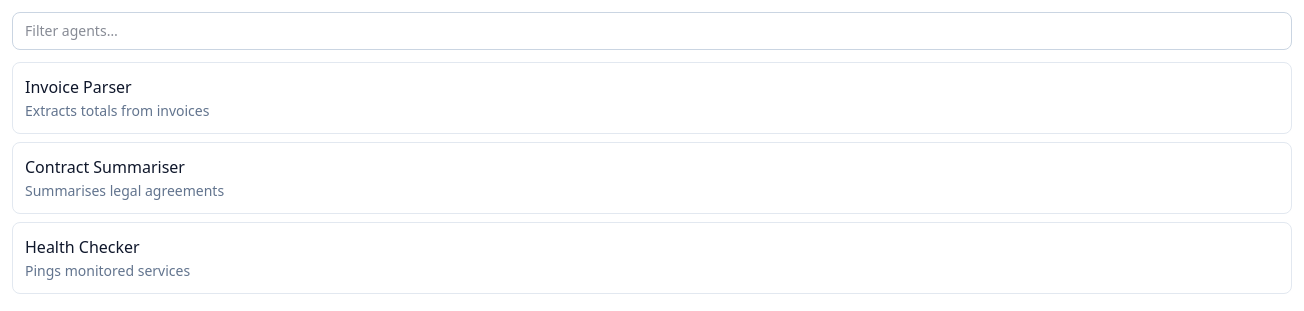
Test case: AgentList filtering › narrows progressively, character by character
Type "c" into the search field labelled "Filter agents…" at (652, 31), box left=12, top=12, right=1292, bottom=50
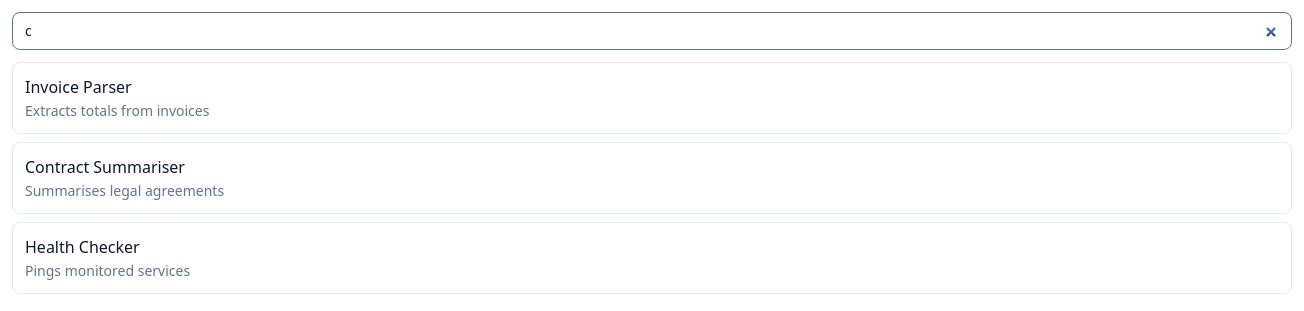
Expected: the number of links with test id "agent-card" is 3, left=12, top=62, right=1292, bottom=134; left=12, top=142, right=1292, bottom=214; left=12, top=222, right=1292, bottom=294
Type "on" into the search field named "Filter agents" at (652, 31), box left=12, top=12, right=1292, bottom=50
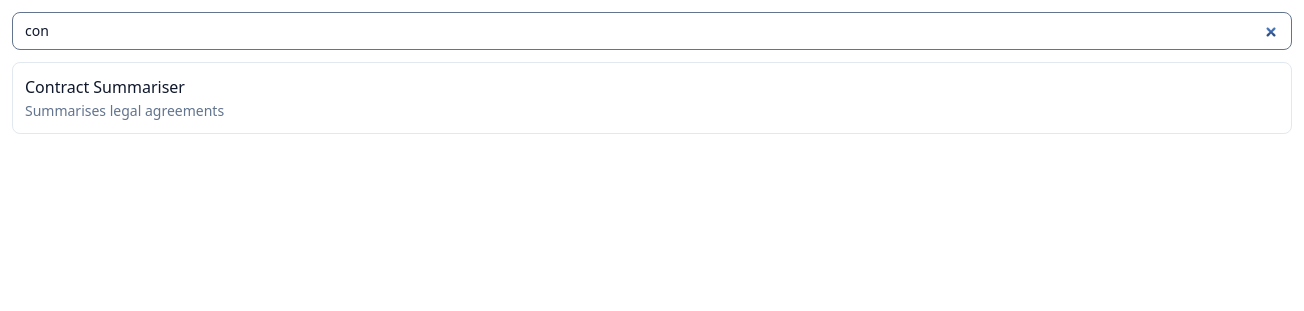
Expected: the text "Contract Summariser" is shown, left=25, top=76, right=185, bottom=98
Result: the number of links with test id "agent-card" is 1 at left=12, top=62, right=1292, bottom=134
